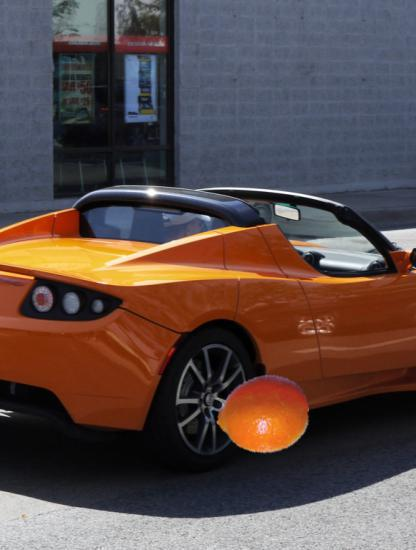Tangelo: (216, 368, 310, 462)
